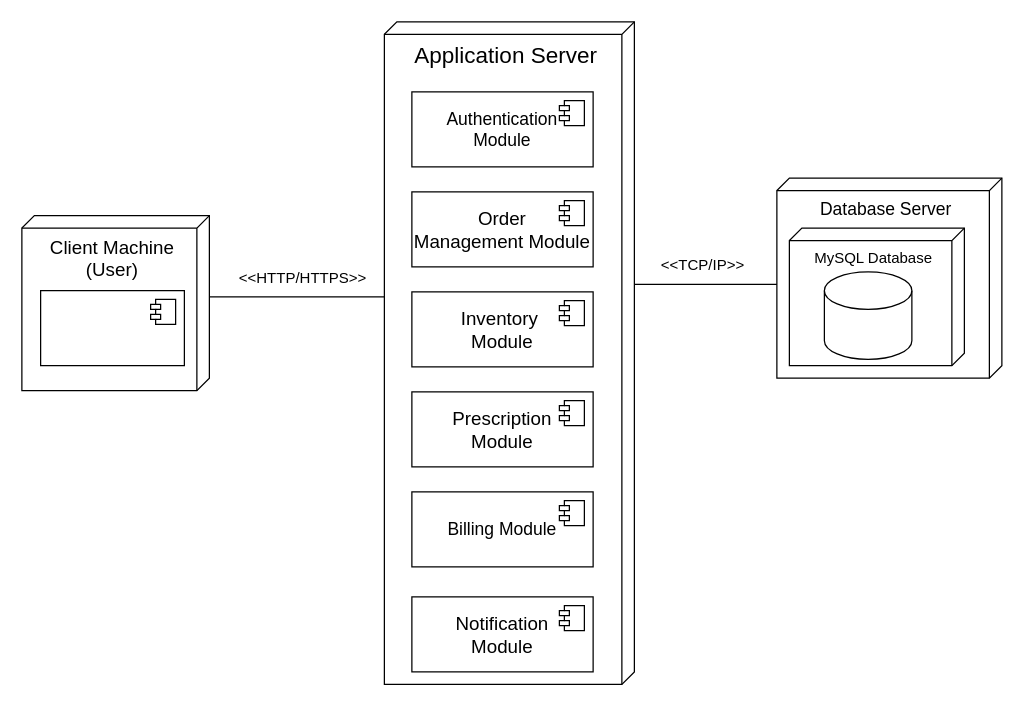
Some shapes in this 1024 by 706 pixel diagram are drawn without their labels. Here are the shapes that lost their labels. From the top down, the centre of each, then its label:
At (x=111, y=327): "Web Browser".
At (x=867, y=315): "Pharmacy Database".
